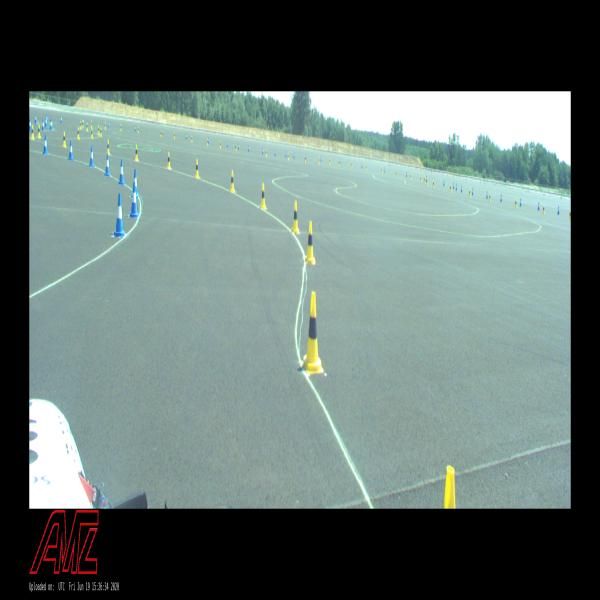blue_cone: (114, 194, 125, 238), (129, 181, 139, 218), (132, 169, 138, 198), (118, 160, 125, 184), (68, 140, 74, 160), (105, 153, 110, 176), (89, 146, 94, 166), (43, 135, 48, 154), (557, 206, 560, 215), (537, 202, 540, 210), (42, 120, 44, 131), (30, 119, 32, 130), (471, 188, 474, 195), (50, 120, 52, 130), (51, 119, 53, 129), (35, 114, 37, 123), (452, 183, 455, 189), (500, 194, 502, 202), (46, 118, 48, 126), (520, 198, 522, 206), (486, 190, 488, 198), (456, 183, 458, 190), (46, 114, 48, 121), (461, 185, 462, 191)
yellow_cone: (302, 292, 324, 374), (305, 222, 316, 264), (291, 200, 300, 234), (260, 184, 266, 210), (230, 170, 234, 192), (195, 158, 199, 178), (167, 152, 171, 169), (134, 145, 138, 161), (31, 124, 35, 140), (62, 132, 66, 147), (37, 124, 41, 138), (107, 139, 110, 154), (77, 127, 80, 139), (514, 198, 517, 208), (79, 120, 82, 129), (104, 122, 107, 130), (449, 184, 452, 192), (91, 127, 93, 138), (100, 127, 102, 137), (543, 204, 545, 214), (86, 122, 88, 131), (568, 210, 570, 219), (468, 189, 470, 197), (82, 120, 84, 128), (98, 126, 100, 134), (489, 193, 491, 201), (91, 120, 92, 128)
